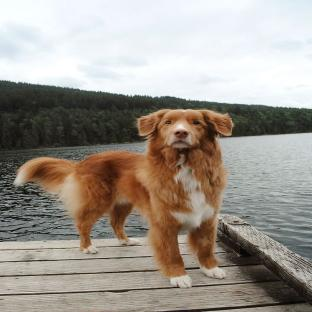Animal: (14, 109, 233, 288)
